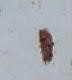Corrosion: (38, 27, 54, 66)
